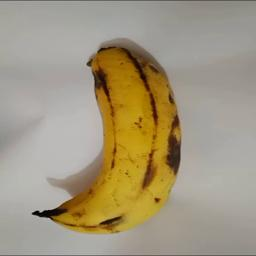Banana Semifresh: (28, 45, 185, 230)
